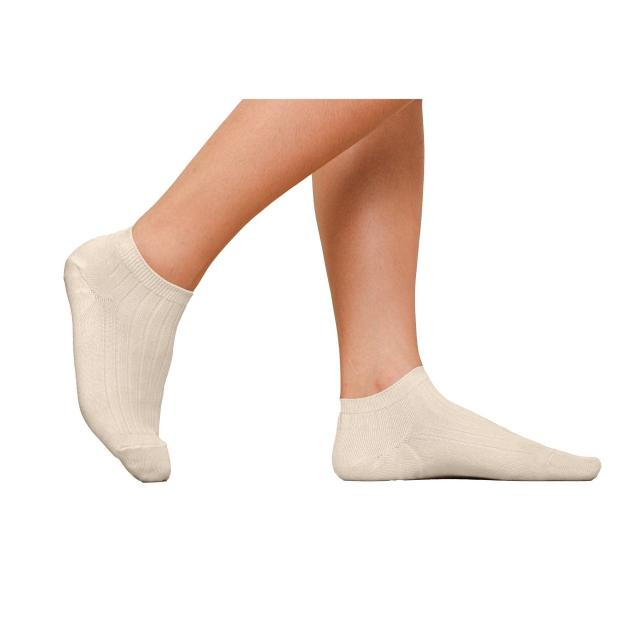sock: (62, 225, 194, 483), (331, 365, 602, 482)
